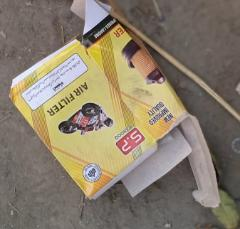paper: (0, 3, 225, 223)
